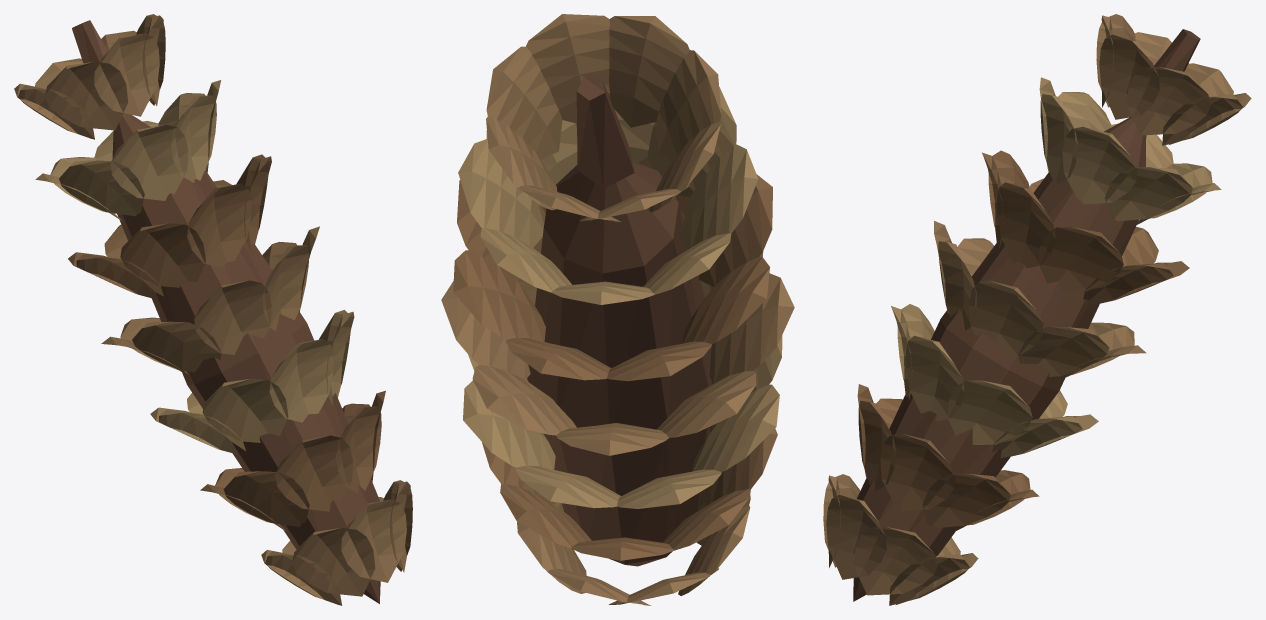
The model's file is seed_spruce.glb.
3 renders of one model, left to right at view 1: azimuth 30°, elevation 25°; view 2: azimuth 150°, elevation 25°; view 3: azimuth 270°, elevation 25°, orthographic. The views are drawn at different scales.
Visible parts, largest first — view 1: seed; view 2: seed; view 3: seed.
Part boxes in pixels (bbox=[...]): seed: bbox=[14, 14, 412, 605]; seed: bbox=[441, 14, 794, 605]; seed: bbox=[823, 14, 1251, 605].
Size of the model in its own units: 0.2217 by 0.4236 by 0.3131.
